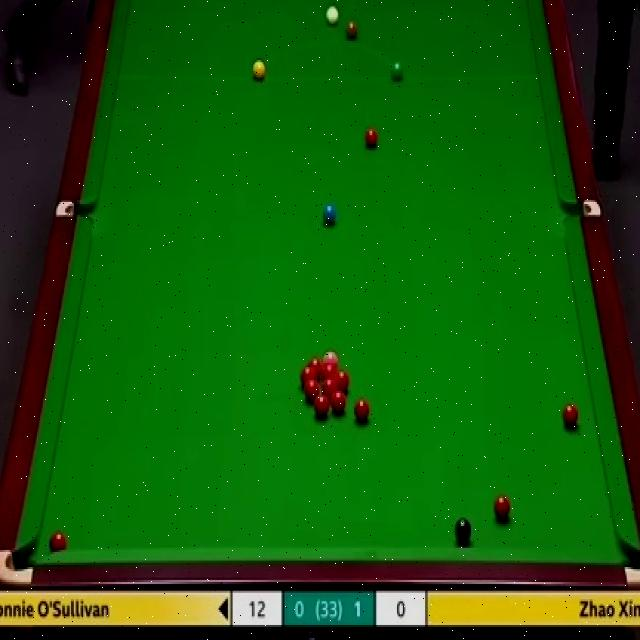black-ball: (454, 518, 473, 545)
blue-ball: (321, 202, 337, 227)
brown-ball: (344, 22, 358, 42)
green-ball: (389, 61, 406, 84)
pink-ball: (323, 351, 338, 363)
red-ball: (494, 495, 512, 522), (363, 125, 380, 151), (562, 404, 579, 429), (354, 400, 370, 423), (50, 530, 67, 551), (330, 392, 345, 415), (315, 396, 329, 418), (304, 380, 318, 402), (301, 366, 318, 384), (335, 371, 349, 392), (308, 360, 323, 378), (323, 379, 337, 394), (322, 362, 334, 379)
white-ball: (325, 4, 339, 27)
yellow-ball: (252, 60, 266, 81)
